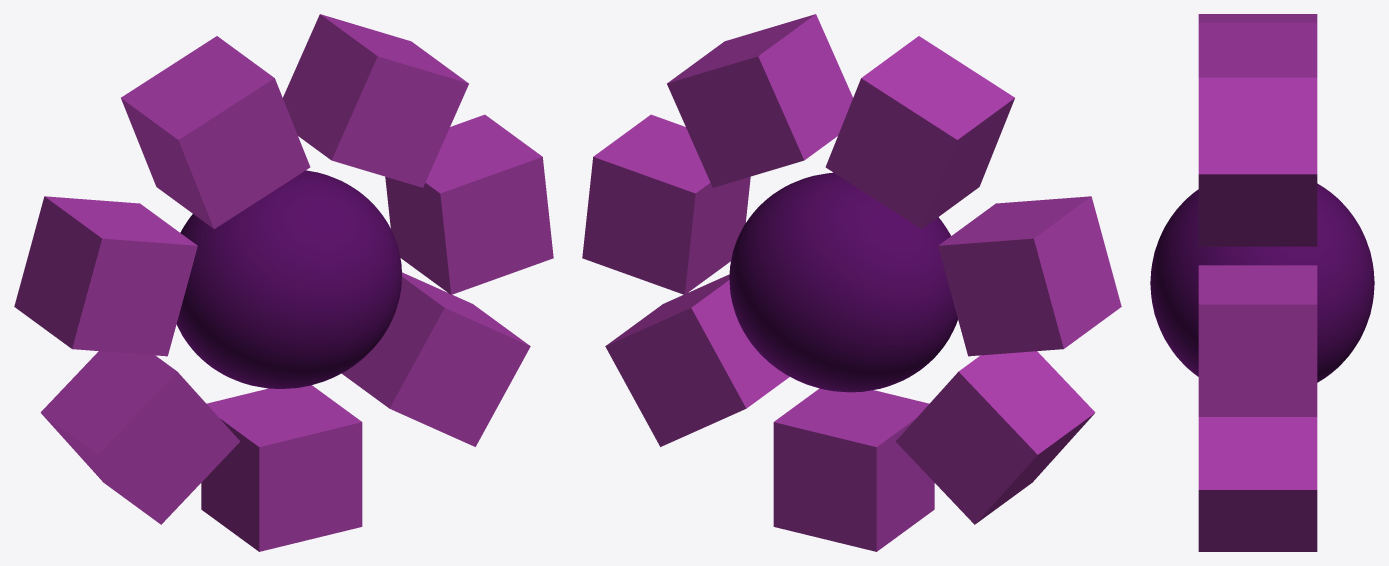
File: sol_portafolio.glb
3 renders of one model, left to right at view 1: azimuth 30°, elevation 25°; view 2: azimuth 150°, elevation 25°; view 3: azimuth 270°, elevation 25°, orthographic. The views are drawn at different scales.
Visible parts, largest first — view 1: mesh_id27, mesh_id32, mesh_id62, mesh_id75, mesh_id38, mesh_id50, mesh_id74, mesh_id56; view 2: mesh_id27, mesh_id32, mesh_id62, mesh_id38, mesh_id75, mesh_id50, mesh_id74, mesh_id56; view 3: mesh_id38, mesh_id50, mesh_id27, mesh_id56, mesh_id32.
Boxes of the visible parts, x1,y1,x2,y2 form: mesh_id27: (176, 170, 401, 388); mesh_id32: (121, 36, 310, 228); mesh_id62: (14, 196, 197, 356); mesh_id75: (201, 385, 362, 551); mesh_id38: (283, 14, 468, 187); mesh_id50: (385, 114, 553, 294); mesh_id74: (40, 351, 240, 524); mesh_id56: (341, 272, 530, 446); mesh_id27: (729, 172, 957, 392); mesh_id32: (825, 36, 1014, 228); mesh_id62: (938, 196, 1121, 356); mesh_id38: (667, 14, 852, 187); mesh_id75: (773, 388, 934, 551); mesh_id50: (582, 114, 750, 294); mesh_id74: (895, 351, 1095, 524); mesh_id56: (605, 274, 789, 446); mesh_id38: (1198, 77, 1317, 246); mesh_id50: (1198, 265, 1317, 416); mesh_id27: (1150, 183, 1374, 382); mesh_id56: (1198, 417, 1317, 551); mesh_id32: (1198, 14, 1317, 77).
Size of the model in its own units: 0.3145 by 0.2933 by 0.1237.
8 materials, 8 textured.
